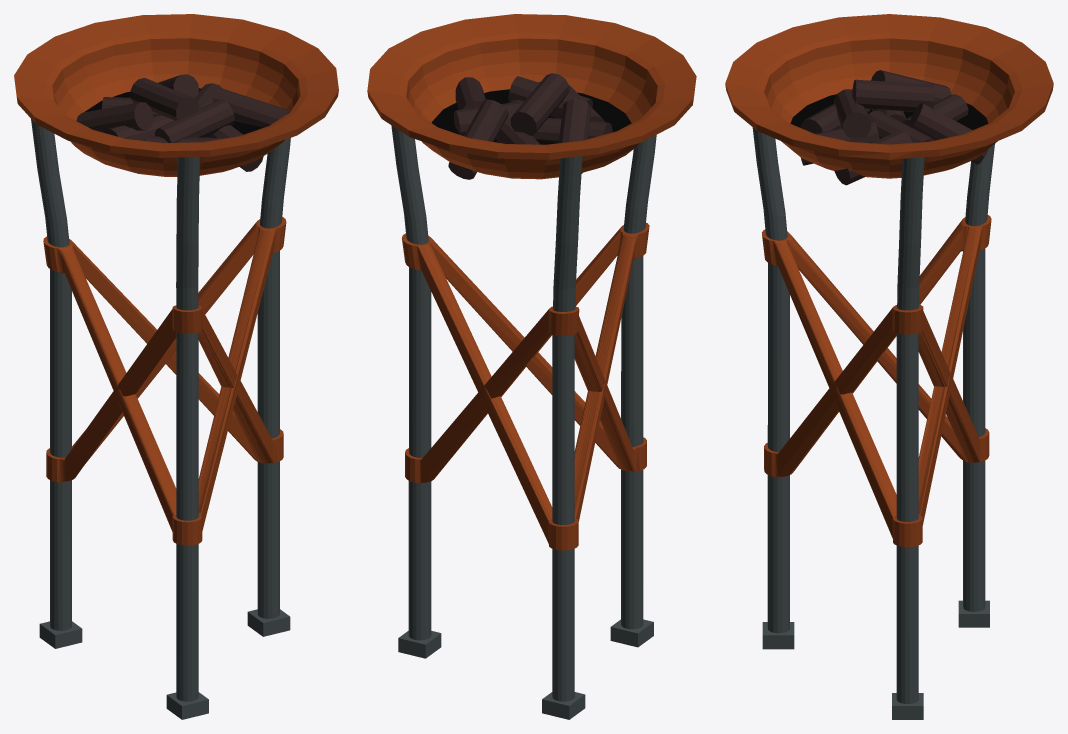
File: Bronze Firebowl on Stand.fbx
3 renders of one model, left to right at view 1: azimuth 30°, elevation 25°; view 2: azimuth 150°, elevation 25°; view 3: azimuth 270°, elevation 25°, orthographic.
Parts seen in each view (by area): view 1: Bronze Feuerschale mit Ständer; view 2: Bronze Feuerschale mit Ständer; view 3: Bronze Feuerschale mit Ständer.
Part boxes in pixels (x1,y1,x2,y2): Bronze Feuerschale mit Ständer: (14, 14, 338, 719); Bronze Feuerschale mit Ständer: (367, 14, 696, 719); Bronze Feuerschale mit Ständer: (725, 14, 1053, 719).
Bounding box in the file's own units: 53.06 × 103 × 53.06.
